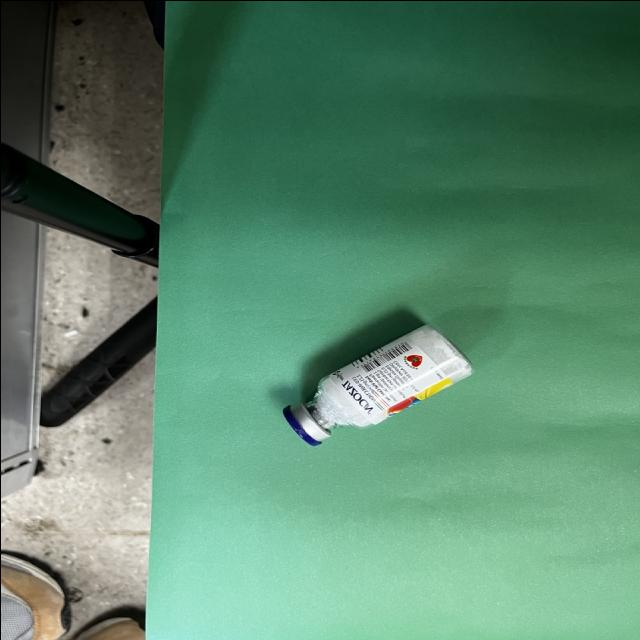Vials: (282, 322, 473, 445)
